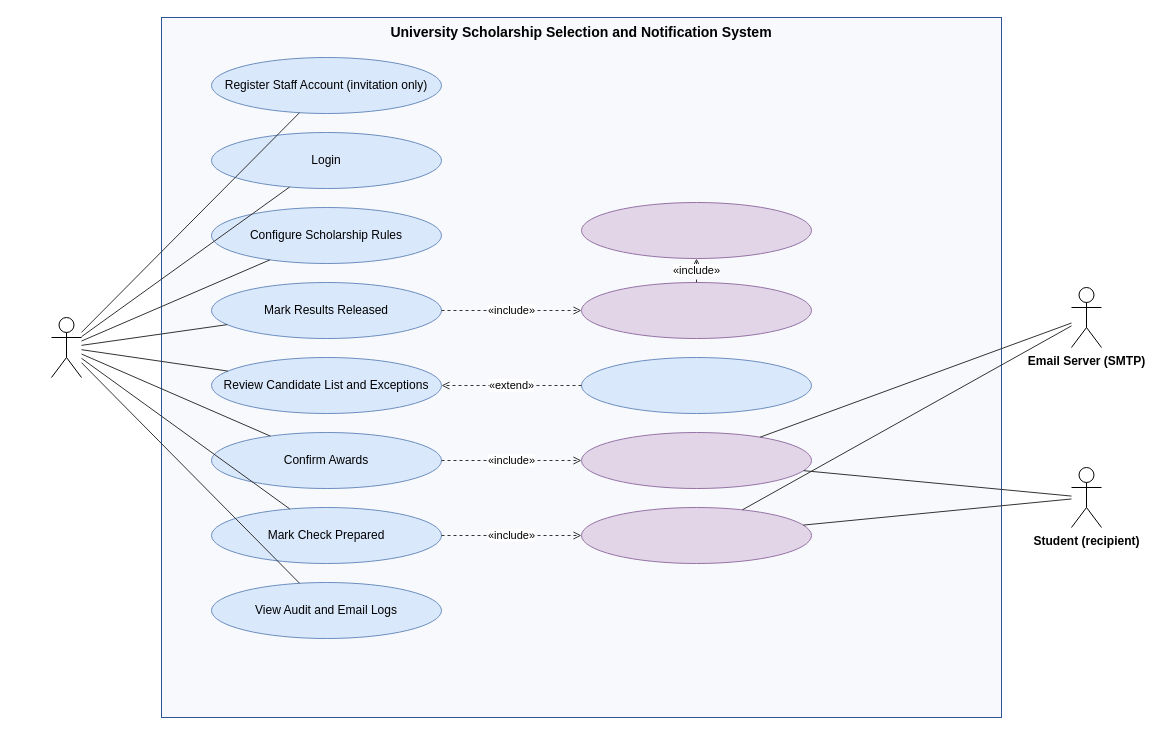
Some shapes in this 1162 by 735 pixel diagram are drawn without their labels. The box of each missing label's shape, as (x1, y1, x2, y2) in pixels:
Generate Per-Batch Candidate List: (580, 282, 812, 338)
Resolve Cutoff Ties: (580, 356, 812, 414)
Scholarship Staff: (50, 316, 82, 378)
Send Award Email: (580, 432, 812, 488)
Send Check Collection Email: (580, 506, 812, 564)
Validate and Reconcile Records: (580, 202, 812, 258)
